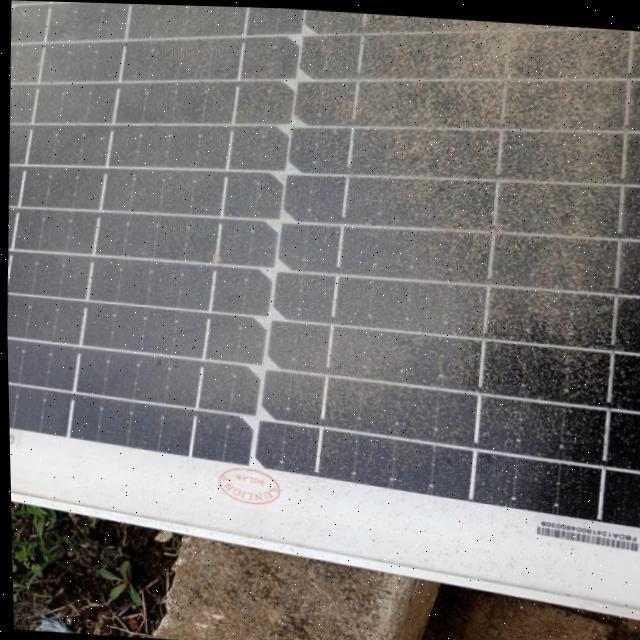Surface Contaminant: (16, 1, 640, 484)
